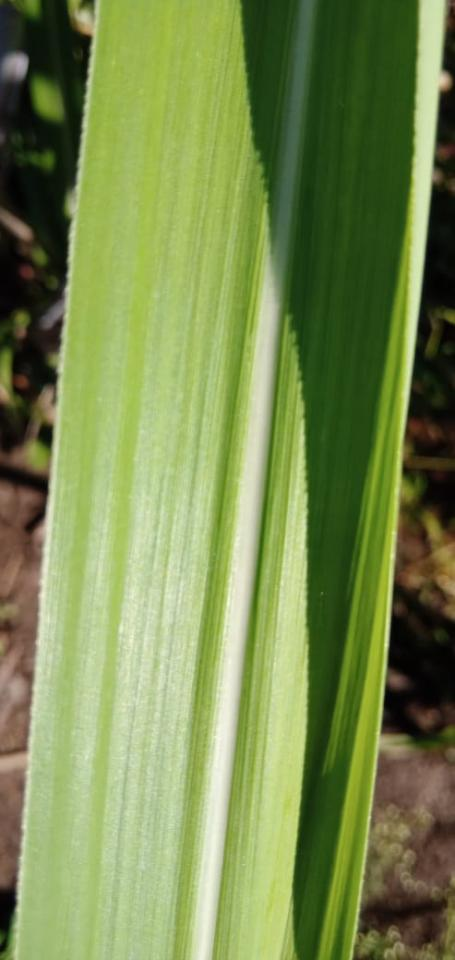Healthy: (14, 0, 440, 959)
